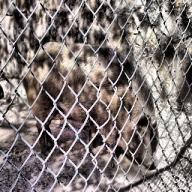boar: (22, 41, 158, 171)
